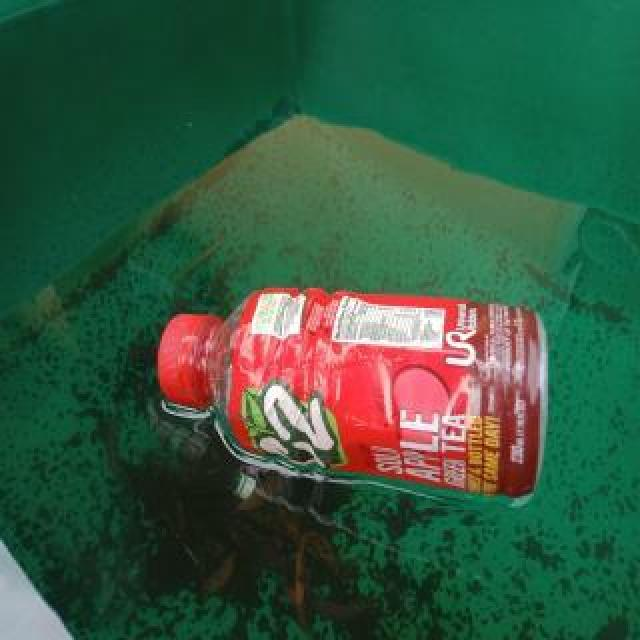bottle: (151, 283, 549, 509)
